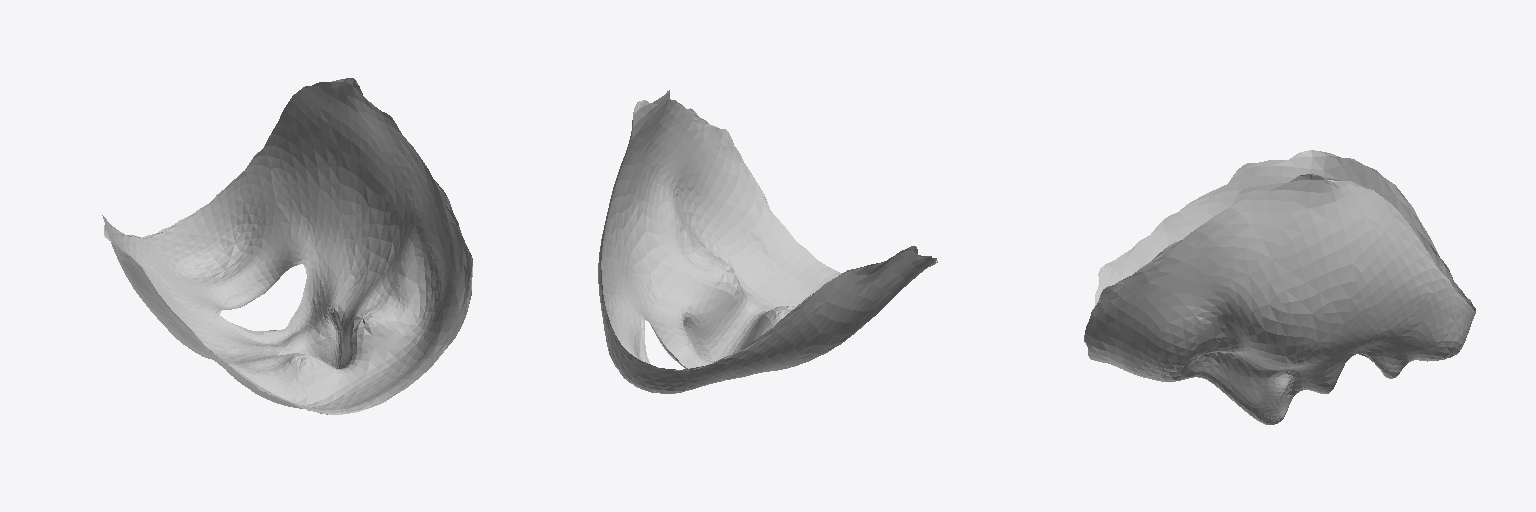
The model's file is face_gab_sfm79.obj.
The picture shows the model from 3 angles: view 1: azimuth 30°, elevation 25°; view 2: azimuth 150°, elevation 25°; view 3: azimuth 270°, elevation 25°; orthographic projection.
Bounding box in the file's own units: 166 × 162 × 209.